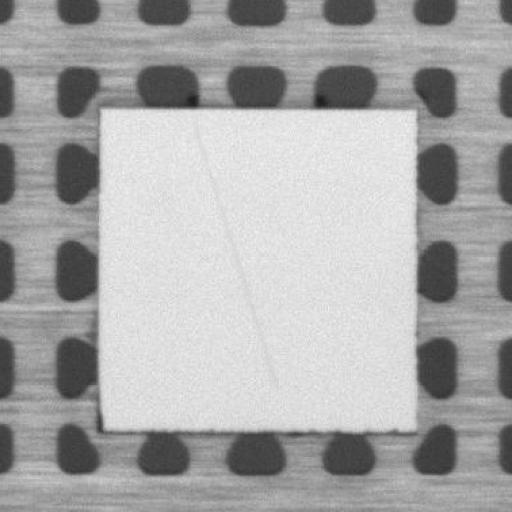DIE_CRACK: (195, 118, 281, 382)
